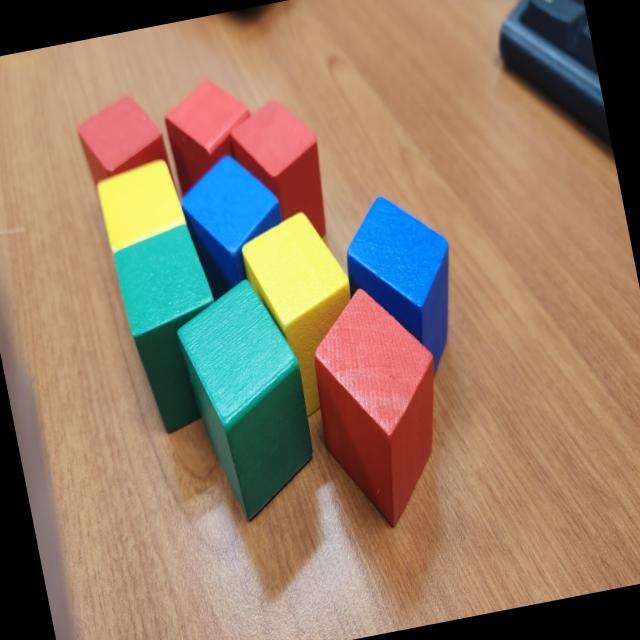blue: (334, 184, 474, 392), (173, 146, 298, 307)
green: (168, 271, 328, 528), (106, 220, 240, 440)
red: (296, 276, 464, 538), (223, 94, 337, 252), (157, 72, 265, 202), (72, 89, 172, 190)
yellow: (235, 205, 375, 428), (94, 159, 188, 255)
